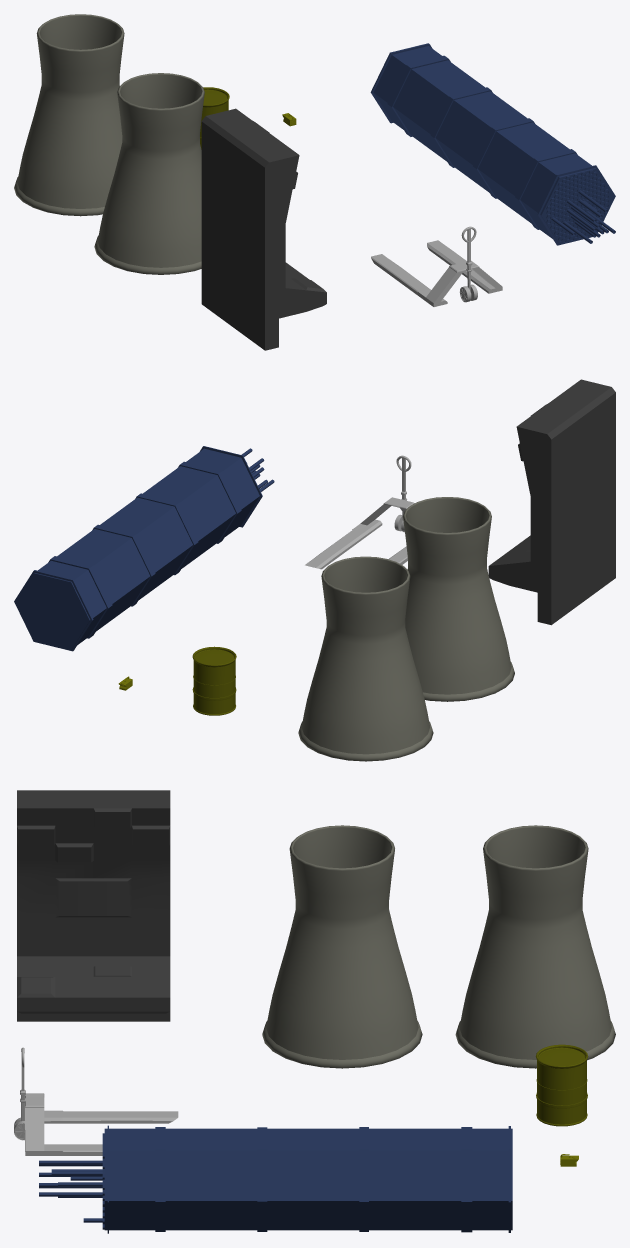
The model's file is ONeal_6_Nuclear_Props.fbx.
3 renders of one model, top to bottom at view 1: azimuth 30°, elevation 25°; view 2: azimuth 150°, elevation 25°; view 3: azimuth 270°, elevation 25°, orthographic. The views are drawn at different scales.
Visible parts, largest first — view 1: Cooling_Towers, Console, polySurface1, Pallet_Jack, Honeycomb, Depleted_Uranium_Barrel; view 2: Cooling_Towers, polySurface1, Console, Depleted_Uranium_Barrel, Pallet_Jack; view 3: Cooling_Towers, polySurface1, Console, Pallet_Jack, Depleted_Uranium_Barrel.
Part boxes in pixels (left/top/right/bottom): Cooling_Towers: left=14, top=14, right=204, bottom=274; Console: left=201, top=108, right=326, bottom=350; polySurface1: left=370, top=43, right=615, bottom=245; Pallet_Jack: left=371, top=226, right=502, bottom=306; Honeycomb: left=546, top=170, right=609, bottom=243; Depleted_Uranium_Barrel: left=200, top=87, right=229, bottom=149; Cooling_Towers: left=298, top=497, right=514, bottom=761; polySurface1: left=14, top=446, right=262, bottom=651; Console: left=488, top=379, right=615, bottom=625; Depleted_Uranium_Barrel: left=192, top=646, right=236, bottom=715; Pallet_Jack: left=305, top=455, right=414, bottom=569; Cooling_Towers: left=262, top=825, right=615, bottom=1068; polySurface1: left=104, top=1125, right=512, bottom=1233; Console: left=17, top=790, right=170, bottom=1021; Pallet_Jack: left=14, top=1047, right=178, bottom=1155; Depleted_Uranium_Barrel: left=535, top=1044, right=588, bottom=1126.
Size of the model in its own units: 22.61 by 9.9 by 23.6.
